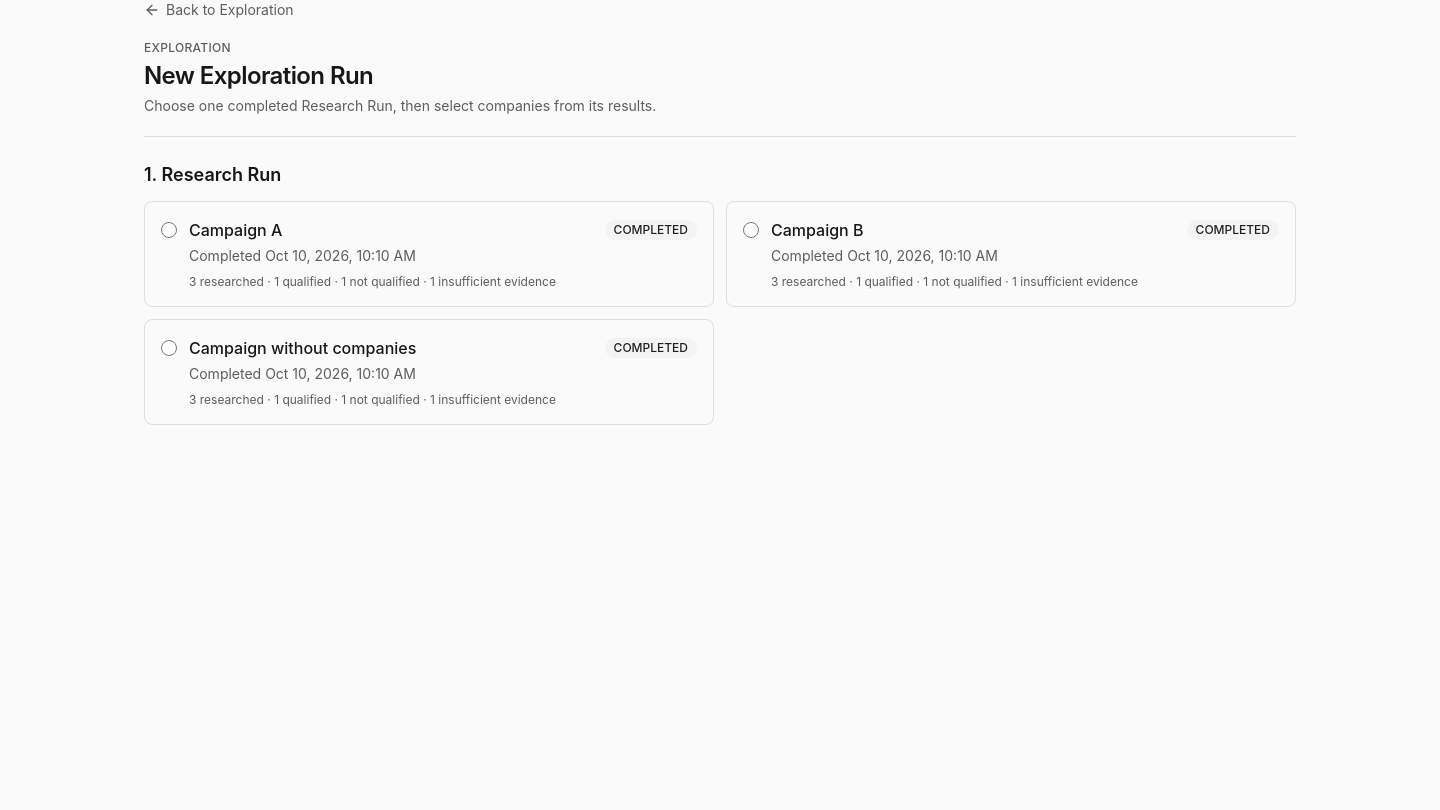
NewExplorationRunPage › offers completed ResearchRuns and loads only the selected run's results
Expected: the radio button labelled "Campaign B" is shown, [743,222,759,238]
Click the radio button labelled "Campaign A".
click(169, 230)  # box [161,222,177,238]
(page scrolled)
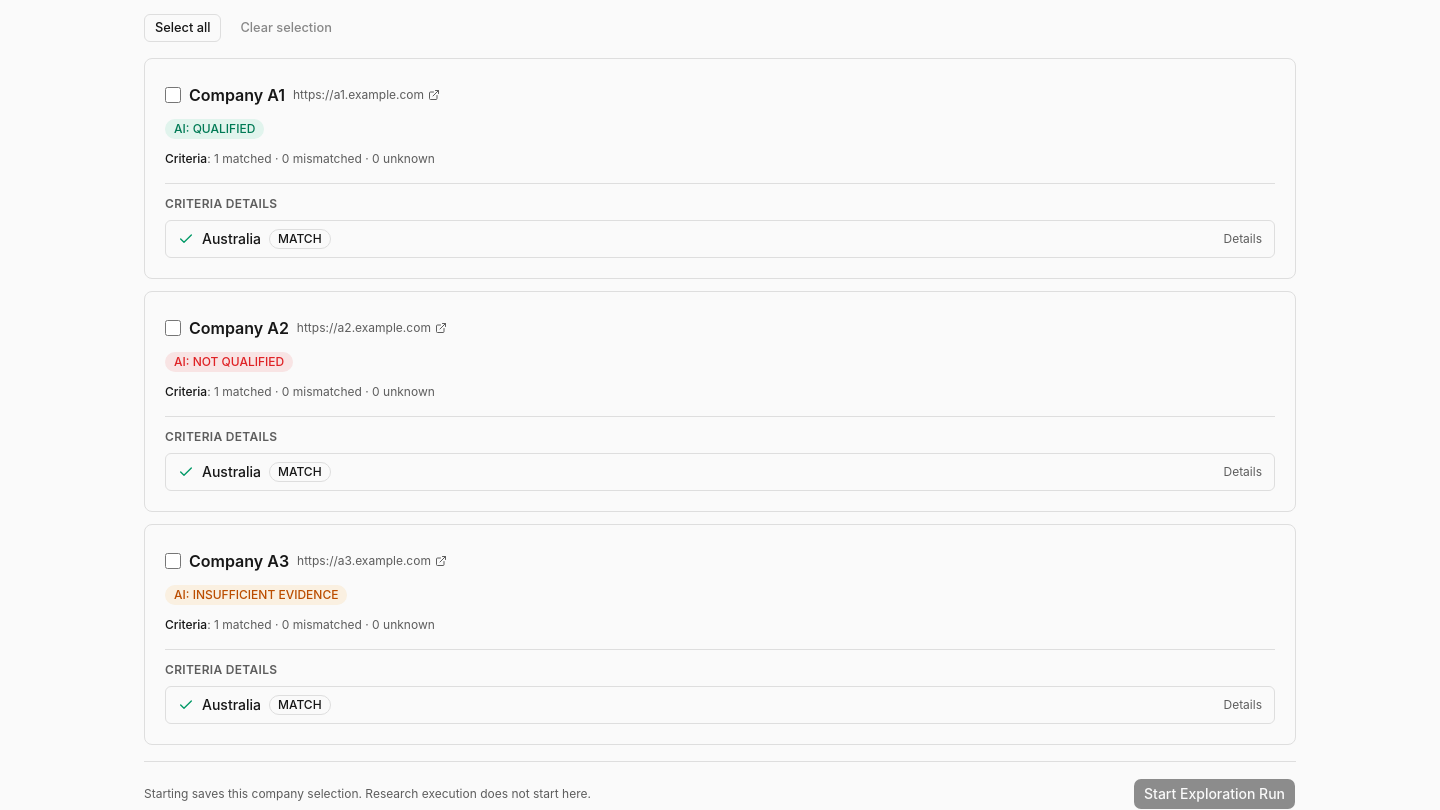
Expected: the heading "Company A1" is shown, [189,83,285,107]
Expected: the heading "Company A2" is shown, [189,316,289,340]
Expected: the heading "Company A3" is shown, [189,549,289,573]
